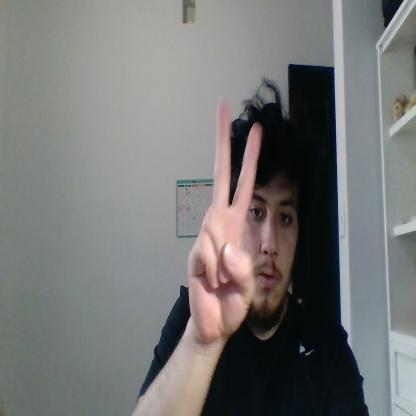V: (187, 98, 262, 340)
